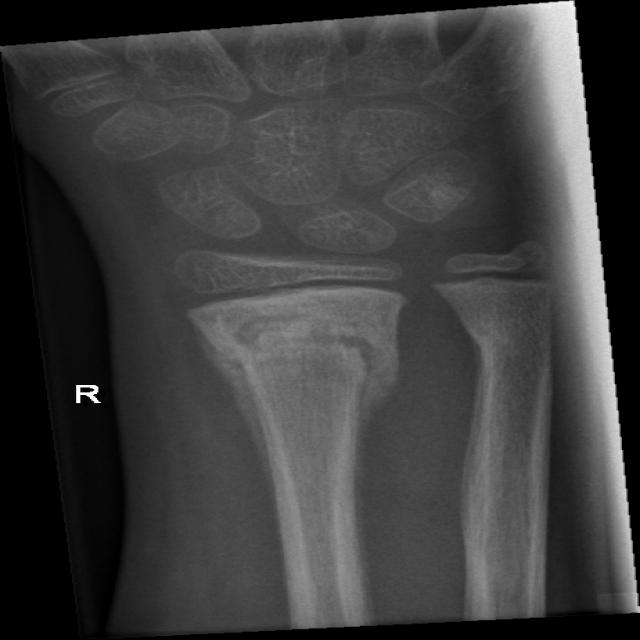radius fracture: (154, 312, 442, 506)
ulna fracture: (413, 282, 549, 478)
